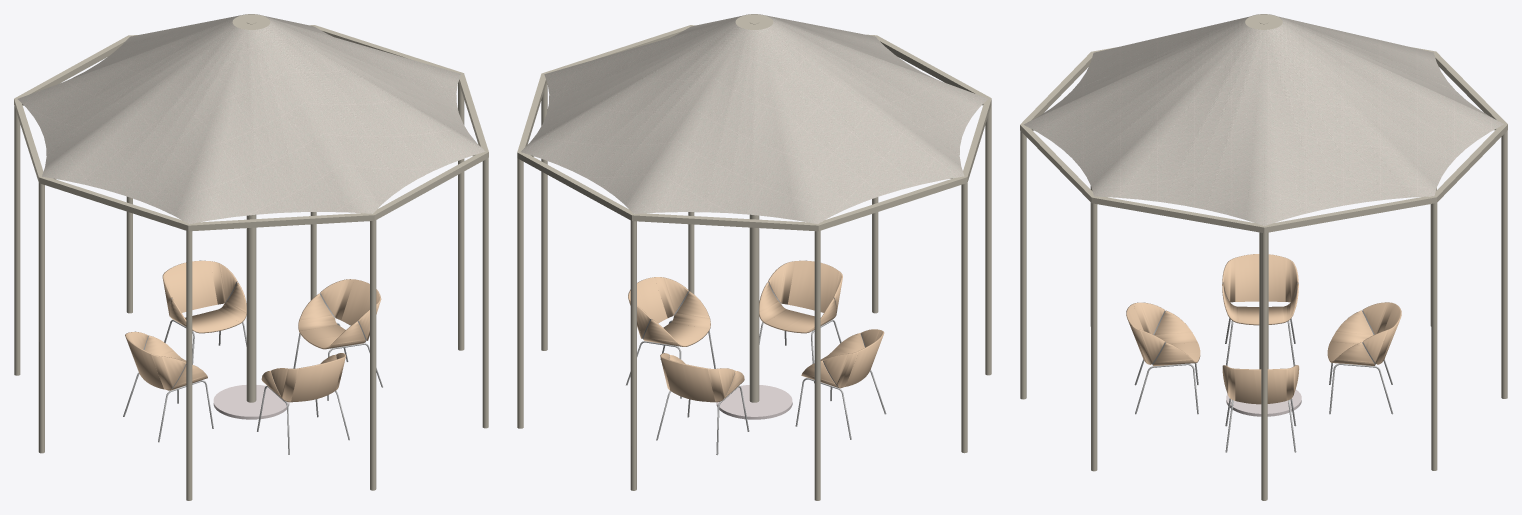
The model's file is UMBRELLA 1.glb.
3 renders of one model, left to right at view 1: azimuth 30°, elevation 25°; view 2: azimuth 150°, elevation 25°; view 3: azimuth 270°, elevation 25°, orthographic.
Parts seen in each view (by area): view 1: CANOPY, POLES, CHAIR, LEGS; view 2: CANOPY, POLES, CHAIR, LEGS; view 3: CANOPY, POLES, CHAIR, LEGS.
Boxes of the visible parts, <box> form: CANOPY: <box>17,14,485,224</box>; POLES: <box>14,14,488,500</box>; CHAIR: <box>125,260,381,402</box>; LEGS: <box>123,319,382,454</box>; CANOPY: <box>521,14,987,223</box>; POLES: <box>517,14,991,500</box>; CHAIR: <box>628,260,884,402</box>; LEGS: <box>626,319,886,455</box>; CANOPY: <box>1023,14,1504,225</box>; POLES: <box>1020,14,1507,500</box>; CHAIR: <box>1126,254,1401,404</box>; LEGS: <box>1134,318,1393,452</box>.
Bounding box in the file's own units: 3.94 × 3.38 × 3.94.
8 materials, 4 textured.
